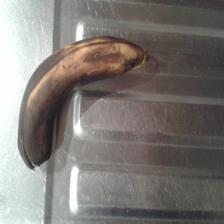Banana Rotten: (24, 26, 75, 182)
